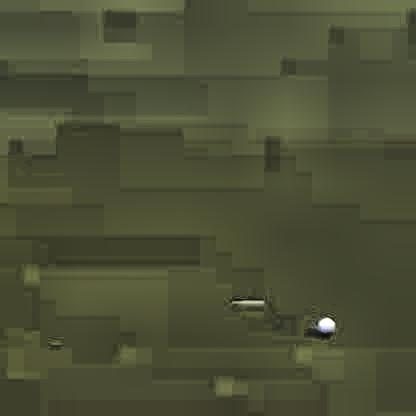golfball: (314, 313, 333, 334)
